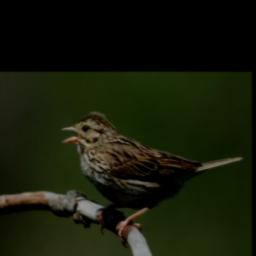Sparrow: (58, 110, 242, 248)
